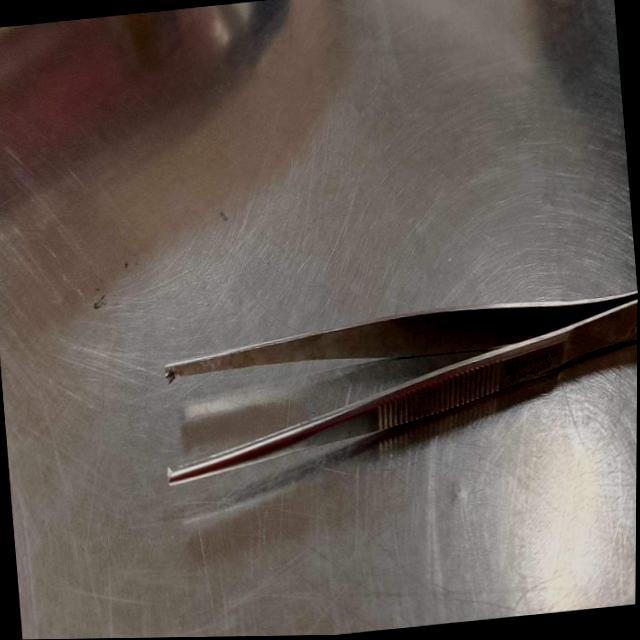Pathological: (0, 0, 638, 639)
Sharps: (165, 294, 637, 486), (162, 290, 637, 384)
